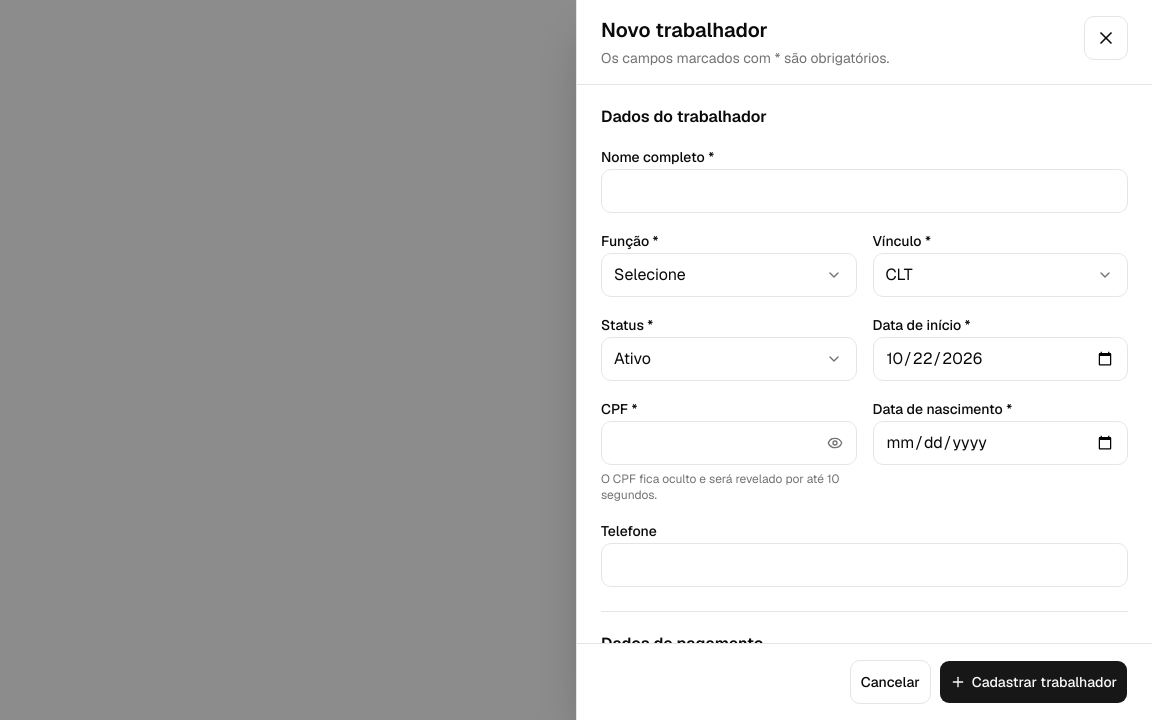
Scenario: formulário de trabalhador › mostra erros de validação junto aos campos obrigatórios
Type "João" into the field labelled "Nome completo *" at (864, 191), box [601,169,1128,213]
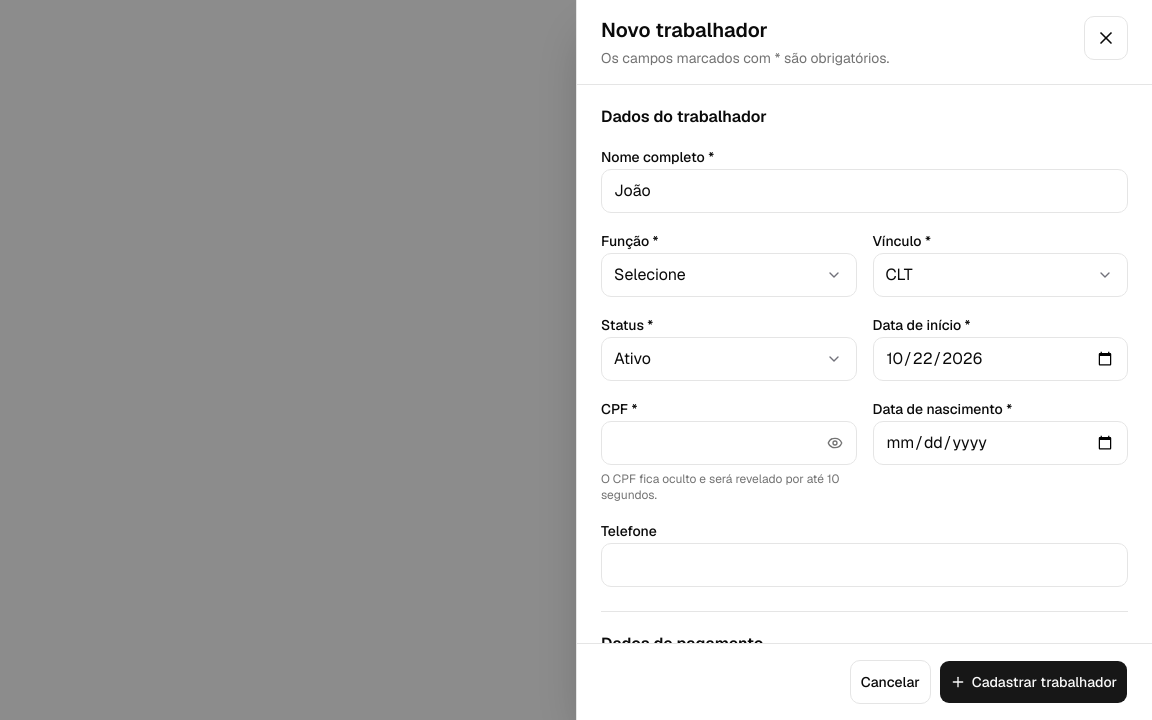
Select "Ajudante de obra" in the dropdown labelled "Função *" at (729, 275), box [601,253,856,297]
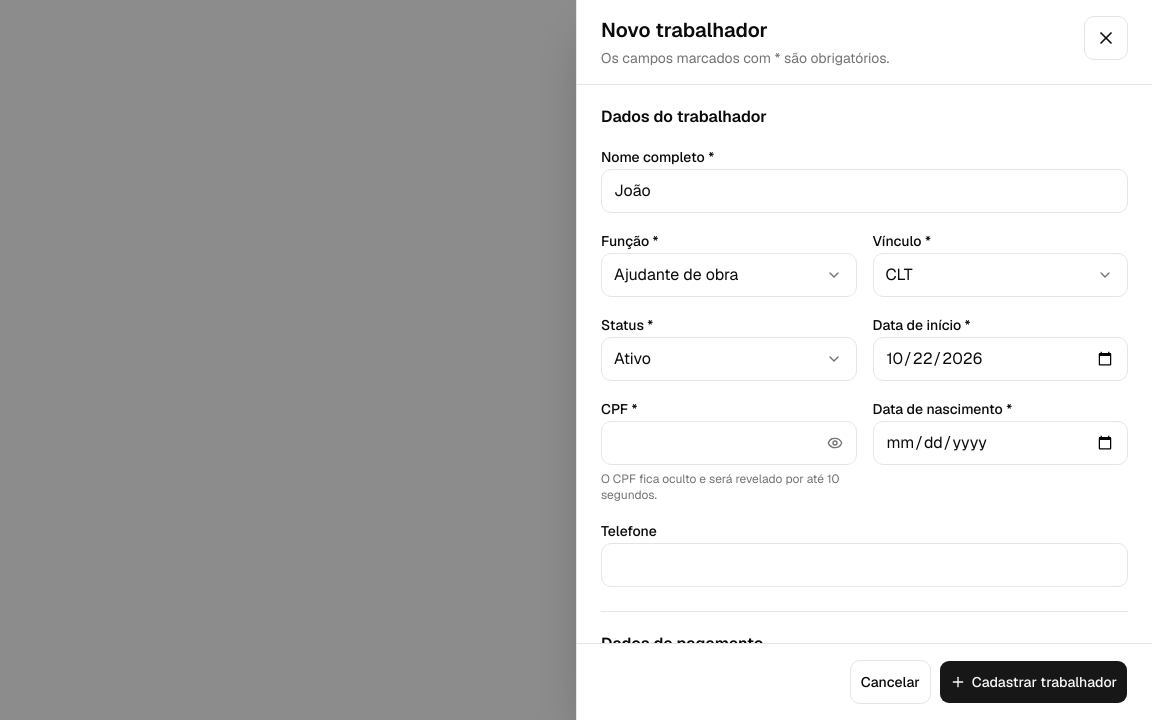
Type "529.982.247-25" into the password field labelled "CPF *" at (729, 443), box [601,421,856,465]
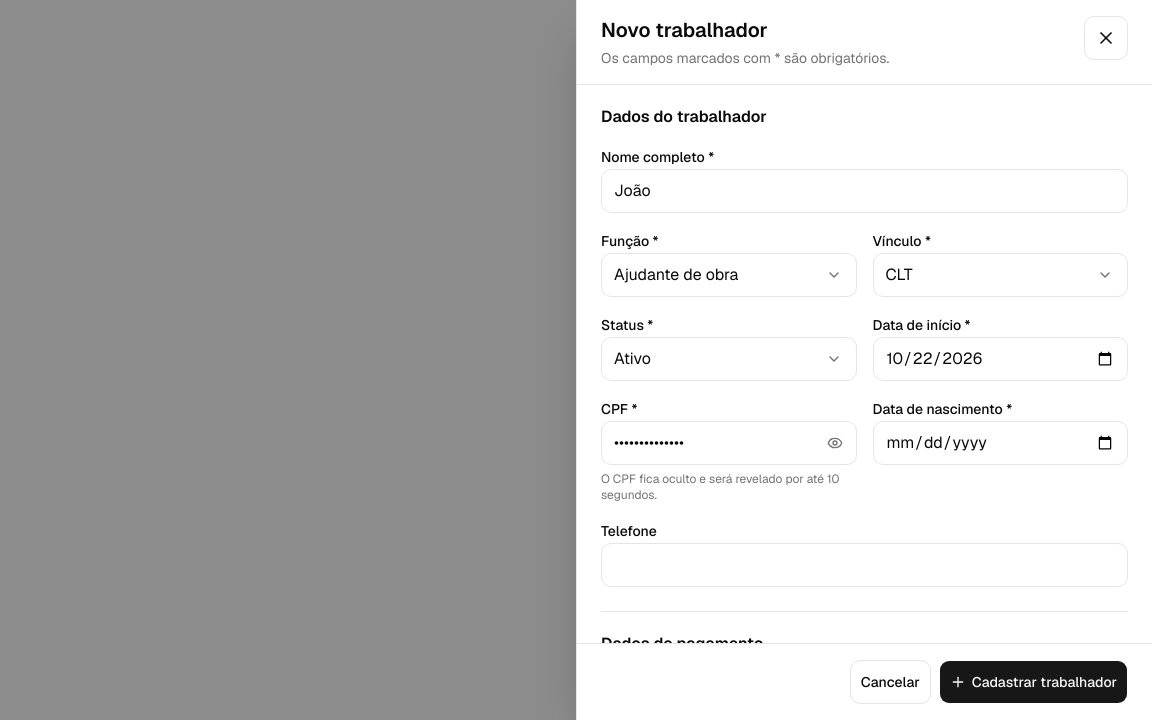
Type "1990-05-20" into the date field labelled "Data de nascimento *" at (1000, 443), box [872,421,1128,465]
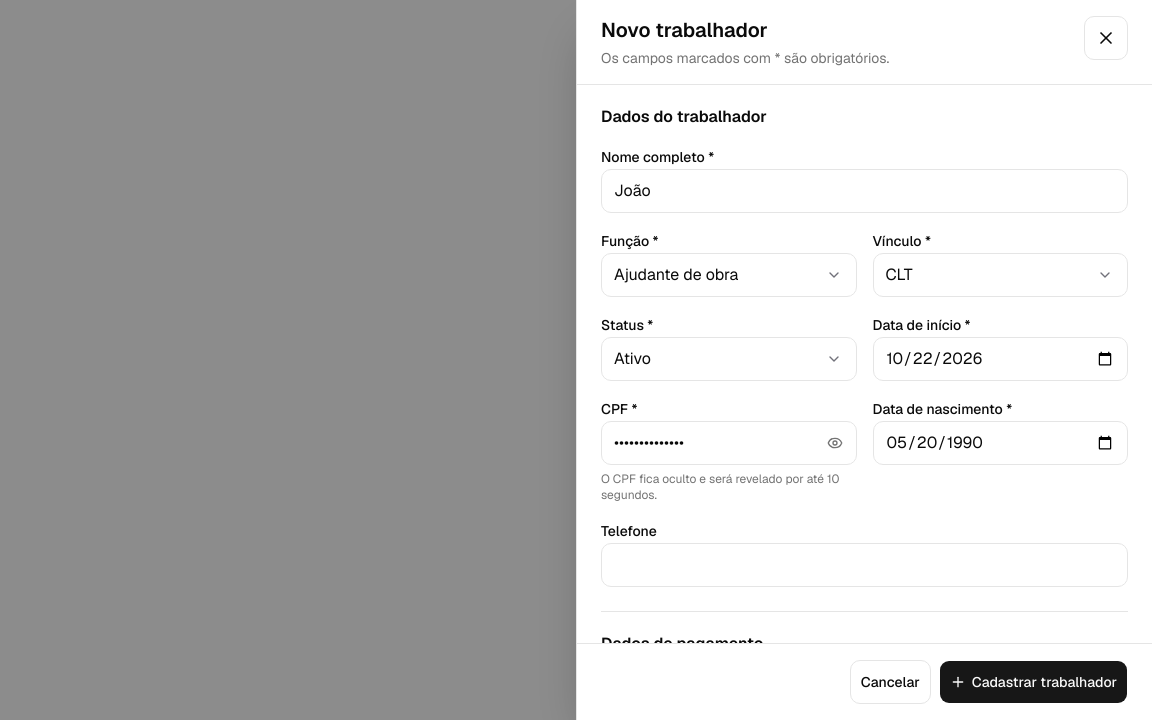
Click the button "Cadastrar trabalhador" at (1033, 682), box [939,660,1128,704]
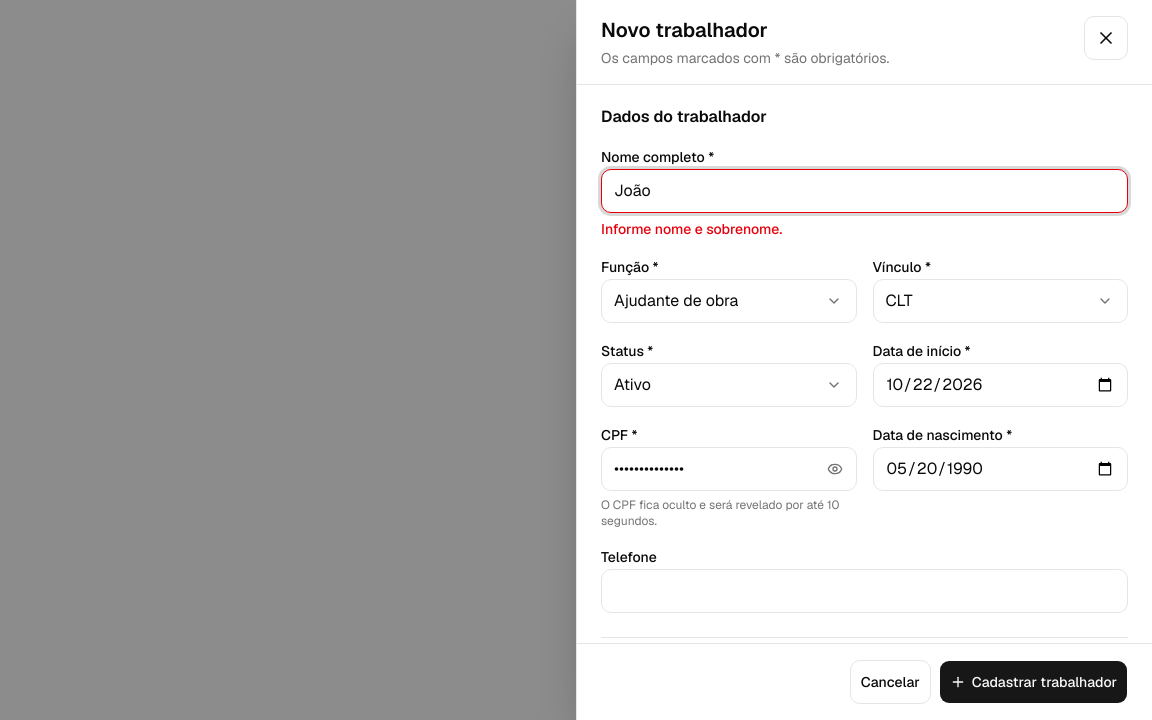
Expected: the text "Informe nome e sobrenome." is shown, [601,220,782,238]
